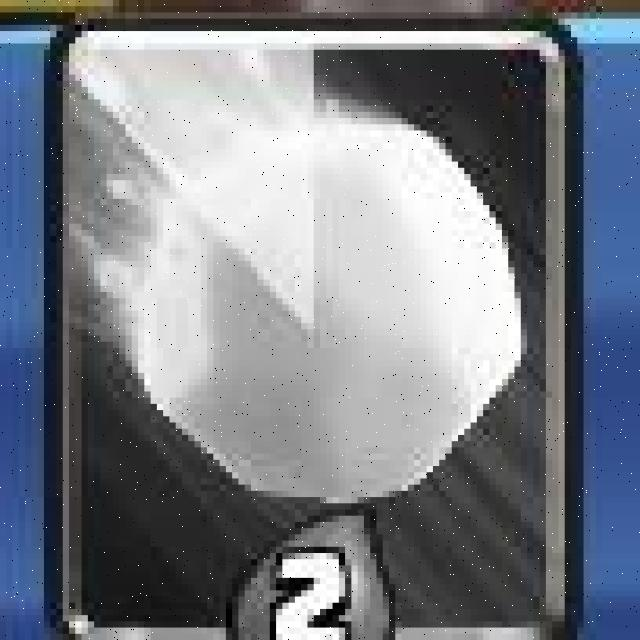Snowball: (46, 10, 585, 640)
